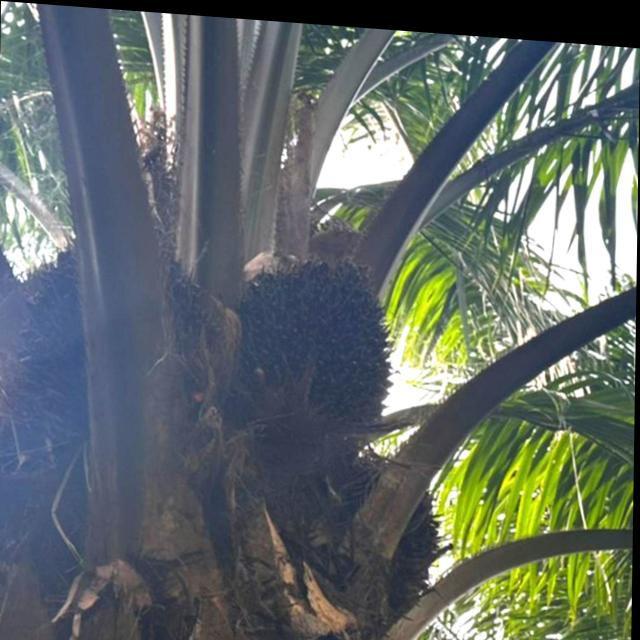unripe: (222, 235, 404, 447)
